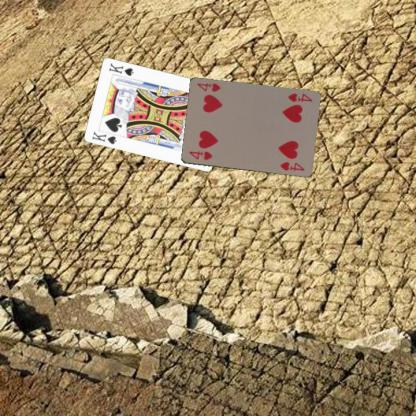4h: (186, 148, 214, 162), (286, 91, 313, 103)
Ks: (89, 129, 118, 145)
